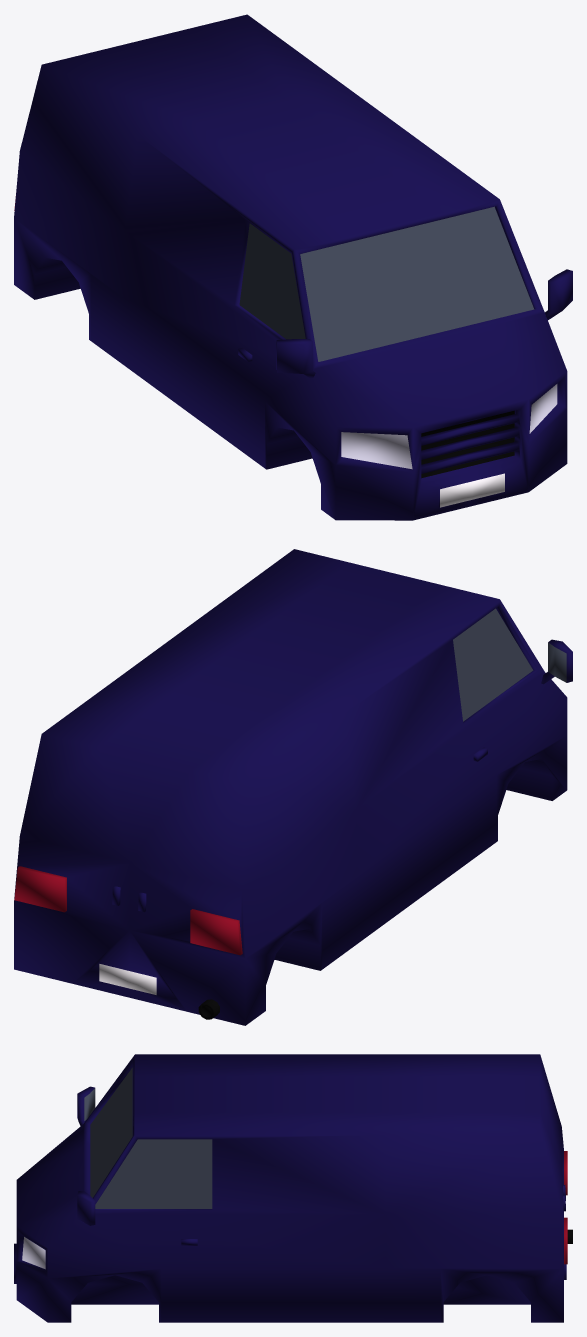
The model's file is Van.fbx.
The picture shows the model from 3 angles, top to bottom: view 1: azimuth 30°, elevation 25°; view 2: azimuth 150°, elevation 25°; view 3: azimuth 270°, elevation 25°; orthographic projection. The views are drawn at different scales.
Parts seen in each view (by area): view 1: Van; view 2: Van; view 3: Van.
Part boxes in pixels (x1,y1,x2,y2): Van: [14, 14, 572, 520]; Van: [14, 549, 572, 1025]; Van: [14, 1054, 572, 1322].
Size of the model in its own units: 1.69 by 3.44 by 1.24.
